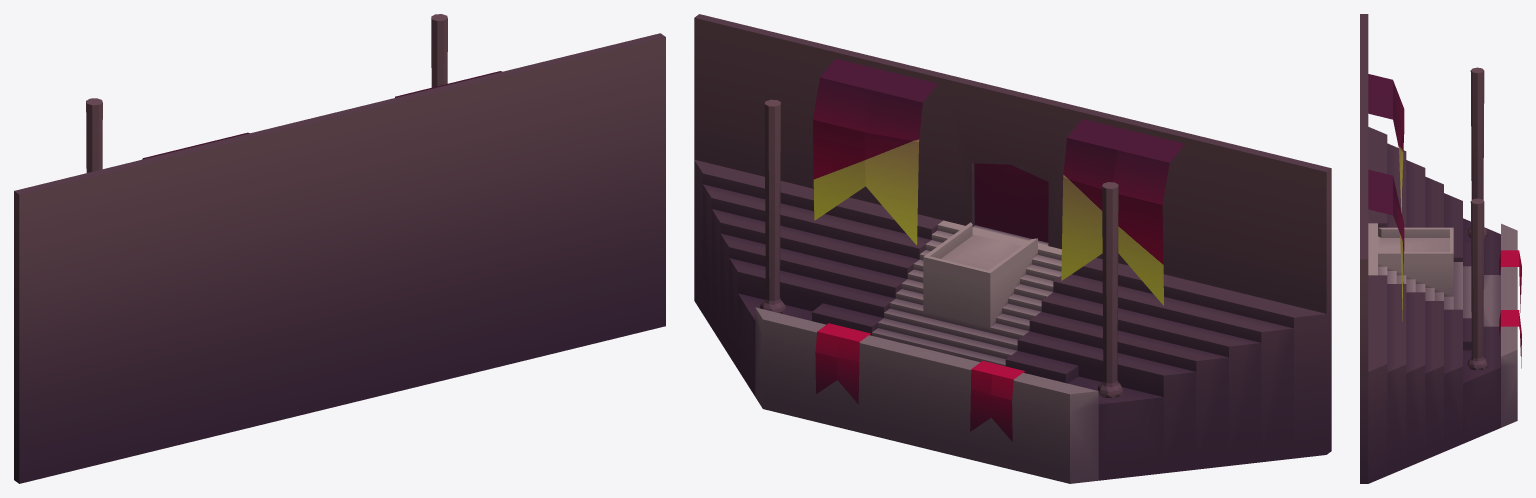
File: arena2.fbx
3 renders of one model, left to right at view 1: azimuth 30°, elevation 25°; view 2: azimuth 150°, elevation 25°; view 3: azimuth 270°, elevation 25°, orthographic. The views are drawn at different scales.
Parts seen in each view (by area): view 1: Cube.013; view 2: Cube.013; view 3: Cube.013.
Part boxes in pixels (x1,y1,x2,y2): Cube.013: (14, 14, 665, 483); Cube.013: (694, 14, 1331, 483); Cube.013: (1360, 14, 1521, 483).
Size of the model in its own units: 7000 by 3001 by 1952.
